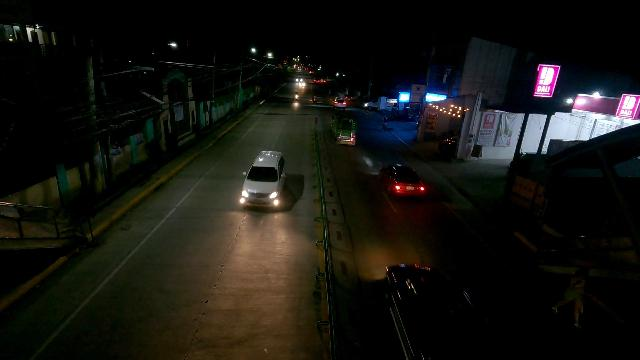car: (238, 148, 289, 212), (379, 162, 426, 200), (333, 97, 347, 110)
jeepney: (329, 114, 357, 148)
